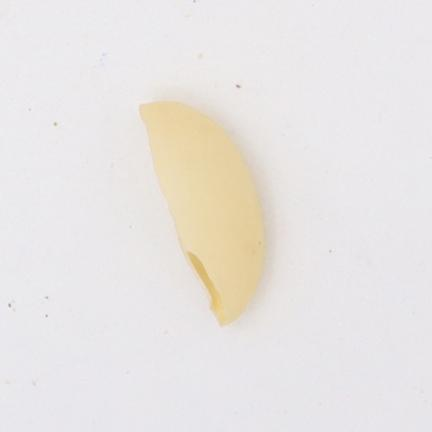parchment: (140, 101, 264, 324)
